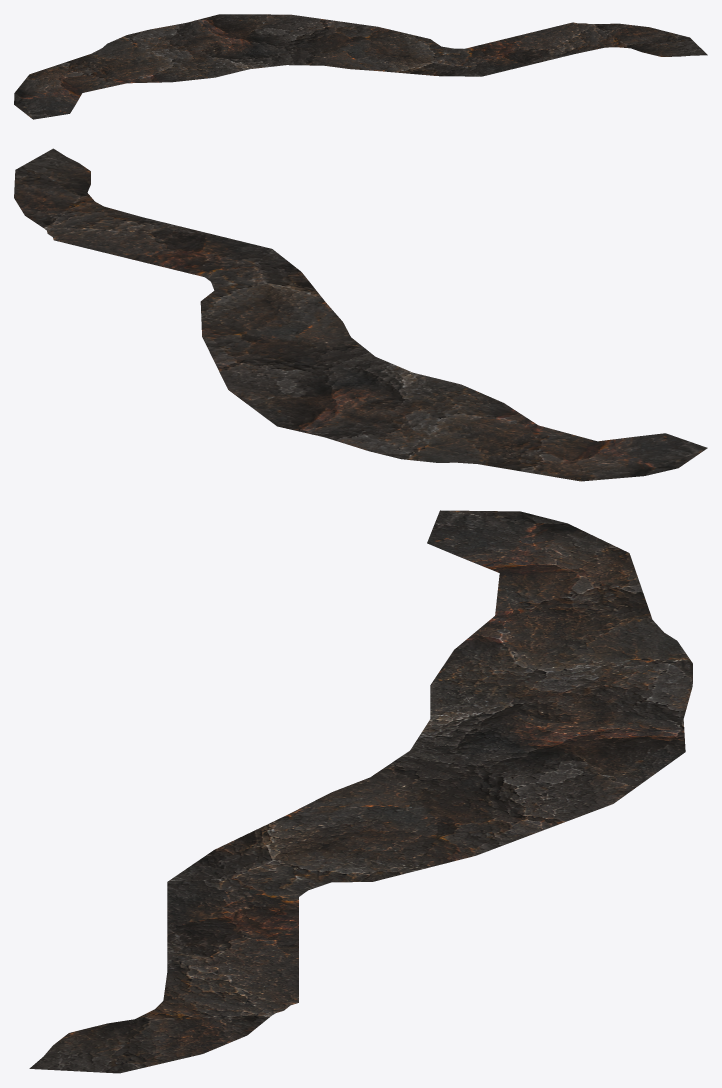
Rendered from lava.fbx.
3 renders of one model, top to bottom at view 1: azimuth 30°, elevation 25°; view 2: azimuth 150°, elevation 25°; view 3: azimuth 270°, elevation 25°, orthographic. The views are drawn at different scales.
Parts seen in each view (by area): view 1: lava2; view 2: lava2; view 3: lava2.
Boxes of the visible parts, x1=… form: lava2: x1=14, y1=14, x2=707, y2=119; lava2: x1=14, y1=148, x2=707, y2=481; lava2: x1=29, y1=510, x2=692, y2=1073.
Size of the model in its own units: 28782 by 0.000394 by 14340.
